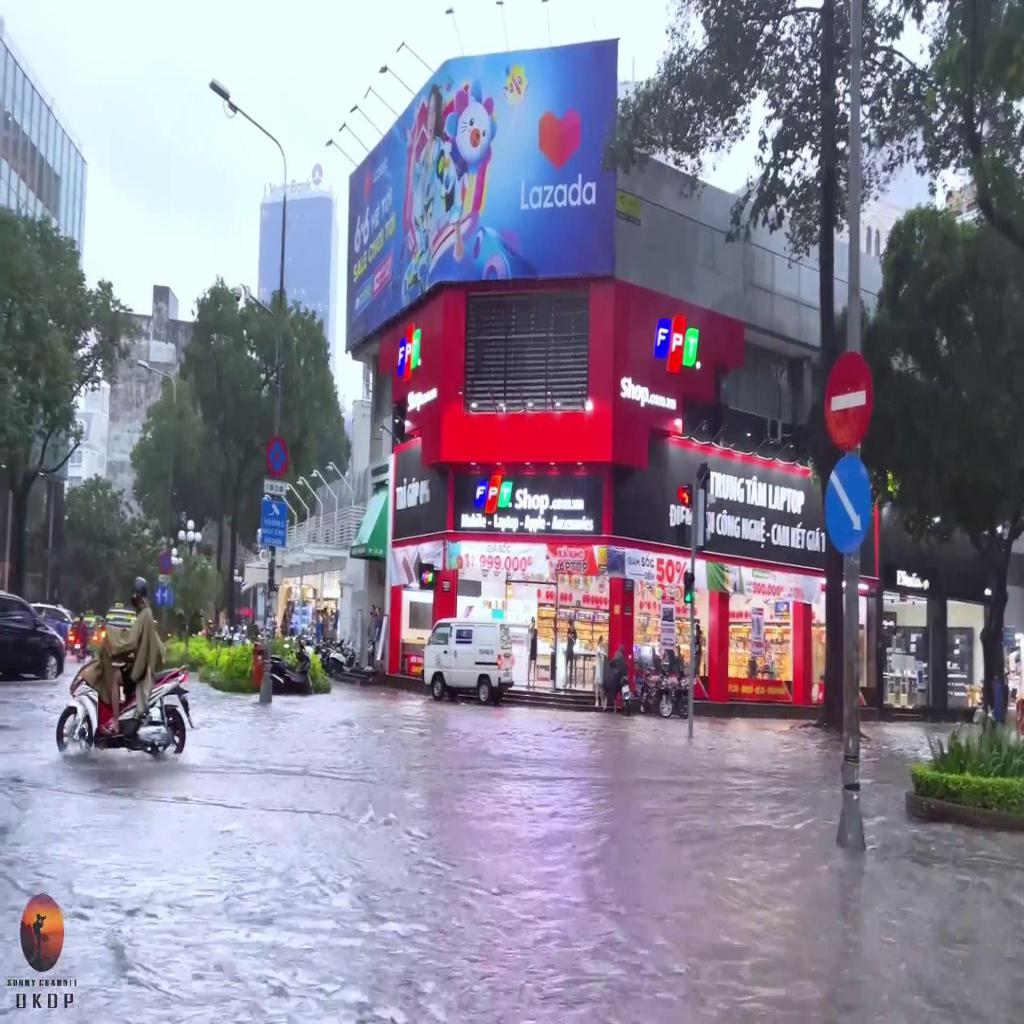cam_dung_xe_va_do_xe: (265, 437, 290, 478)
cam_xe_di_nguoc_chieu: (824, 353, 873, 449)
huong_phai_di_vuot_chuong_ngai_vat_phai: (824, 455, 871, 553)
khac: (261, 502, 286, 546), (264, 482, 286, 494)
